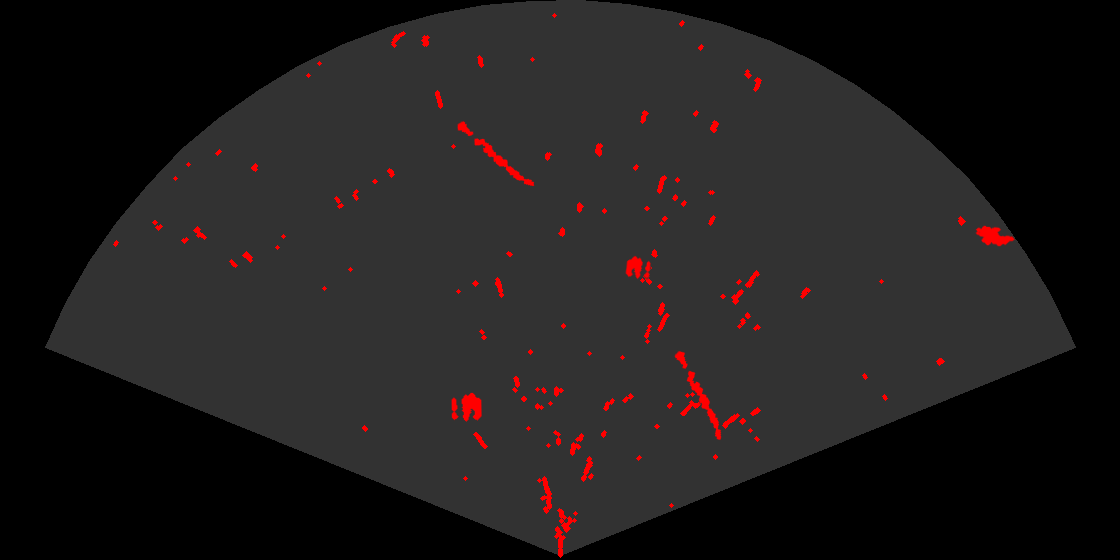AUV: (974, 224, 1017, 248)
ball: (450, 391, 483, 423), (624, 254, 652, 281)
chain: (456, 120, 536, 188), (673, 349, 723, 442)
